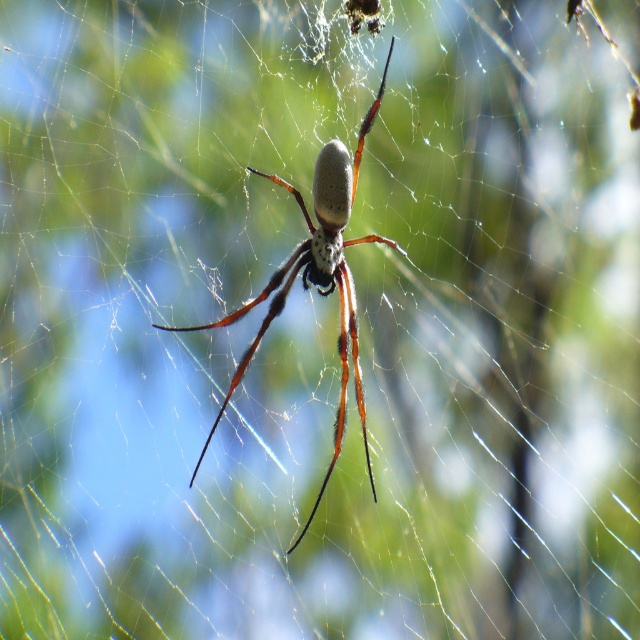Spider: (152, 35, 407, 555)
